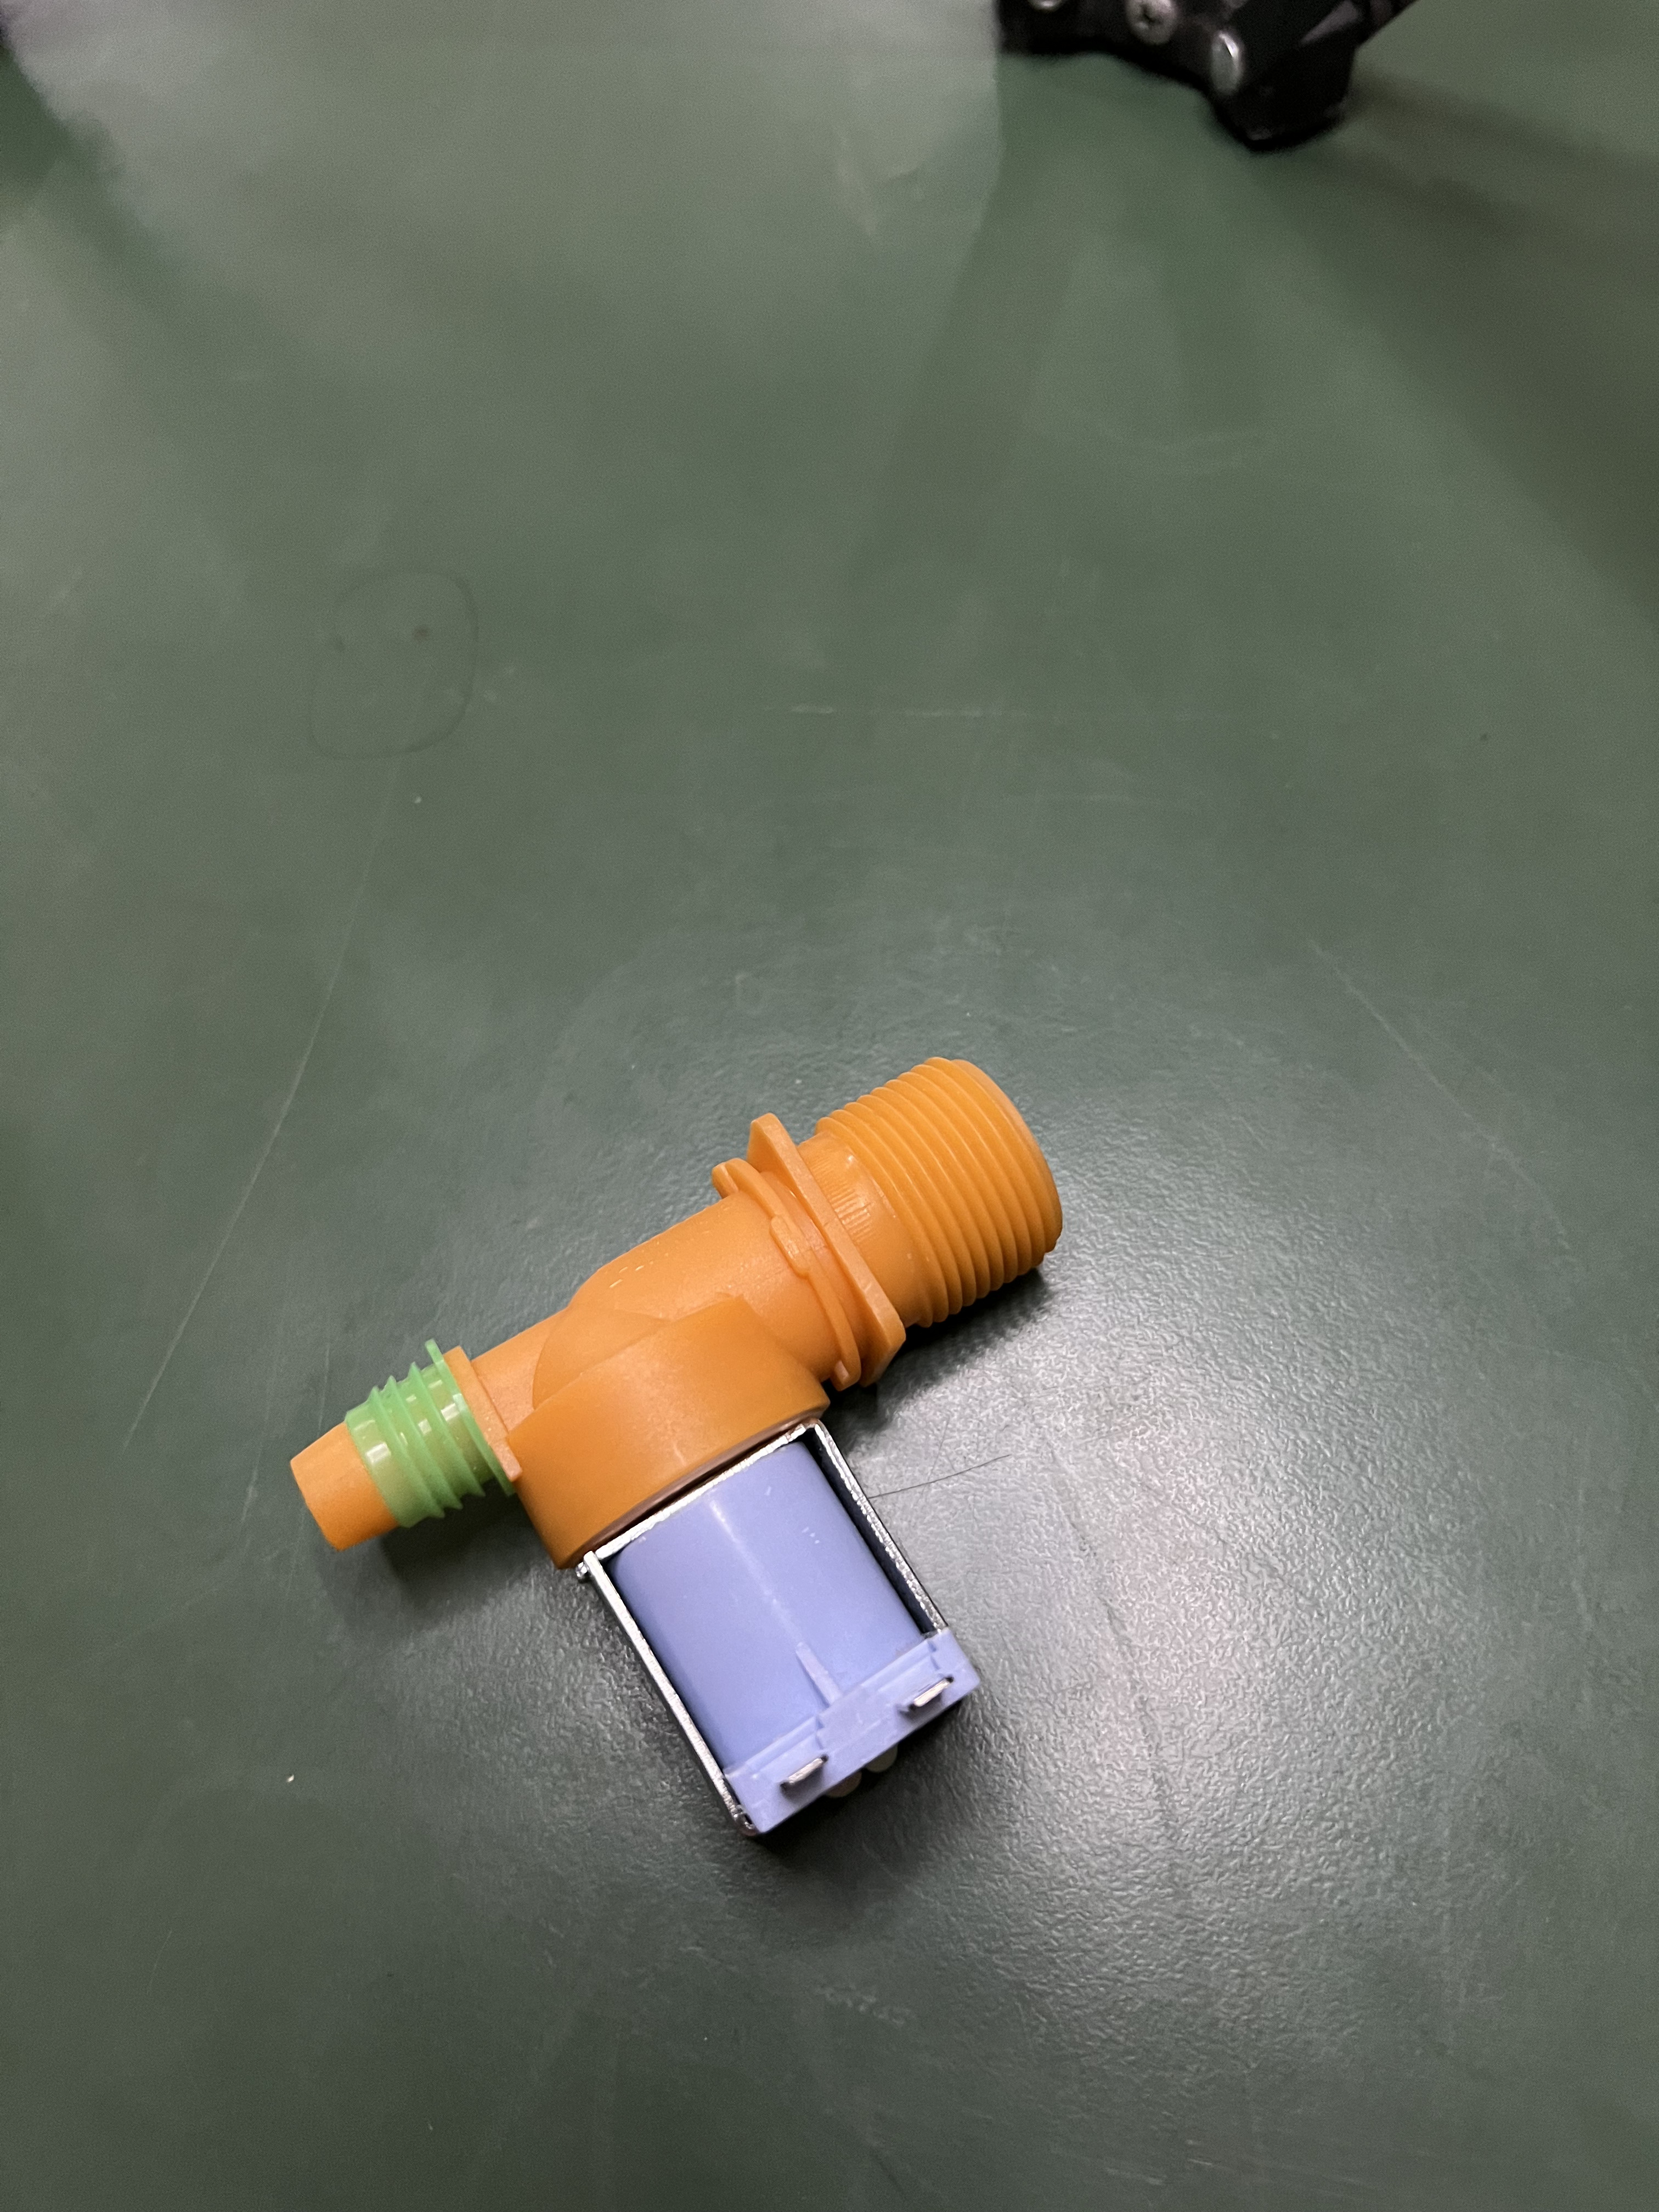ss_inlet_valves: (296, 1047, 1131, 1839)
